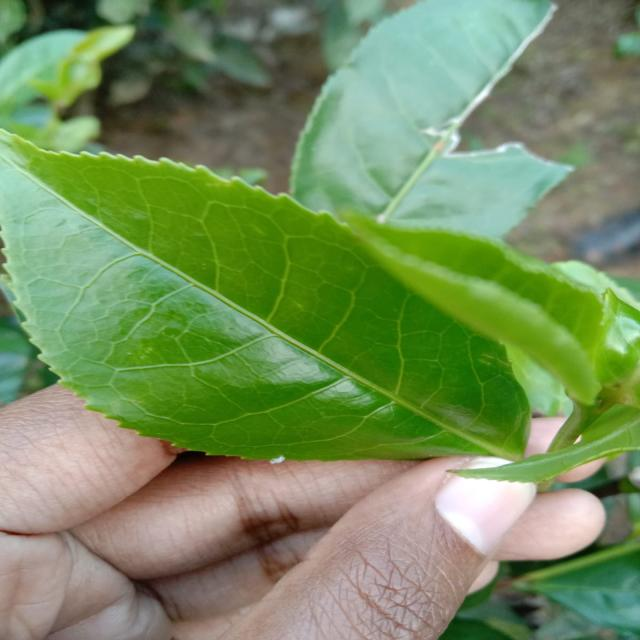Category C(4-7 days): (0, 122, 556, 510)
